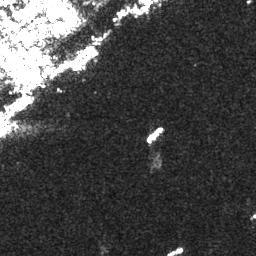ship: (73, 47, 98, 73), (146, 124, 166, 146), (165, 244, 183, 256)
